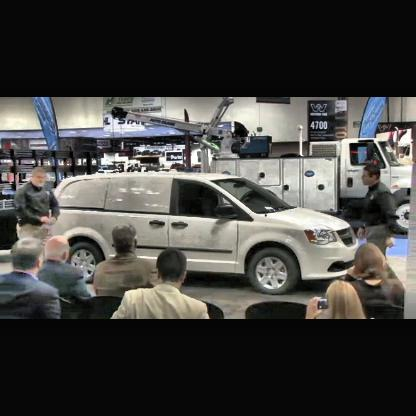Ram C-V Cargo Van Minivan 2012: (45, 171, 363, 283)
